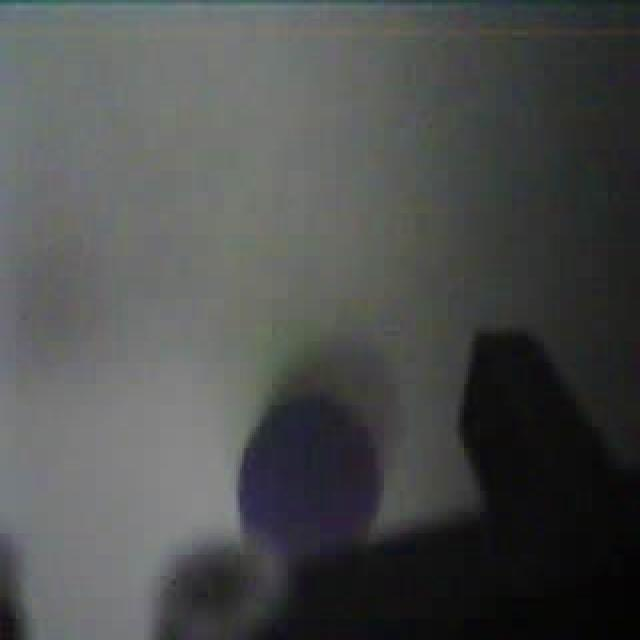blue_ball: (234, 383, 388, 564)
